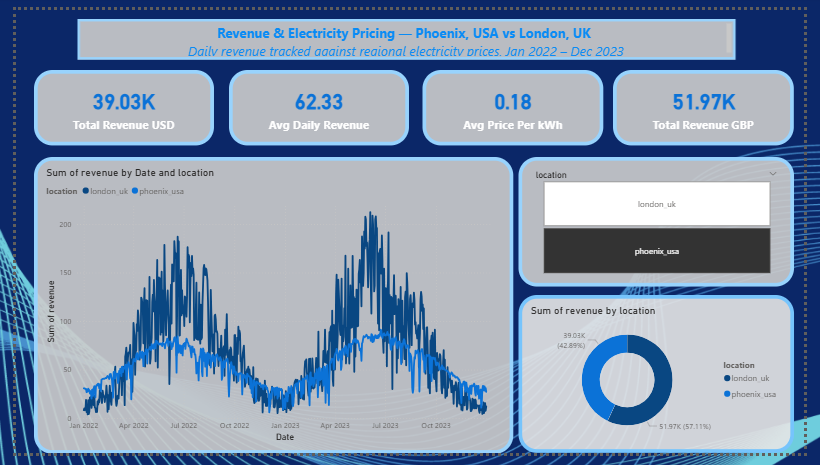

This screenshot's page, from the dashboard's own definition file:
{"tool":"powerbi","page":{"name":"Revenue & Market Price","canvas":[1280,720],"ordinal":1},"visuals":[{"type":"card","title":"Total Production","fields":{"Values":["production_clean.Avg Daily Revenue"]},"box":[346.8,97,292.7,122.5],"z":0},{"type":"card","title":"Total Production","fields":{"Values":["production_clean.Total Revenue USD"]},"box":[28.6,97,292.7,122.5],"z":1000},{"type":"card","title":"Total Production","fields":{"Values":["production_clean.Avg Price Per kWh"]},"box":[661.7,97,294.3,122.5],"z":2000},{"type":"card","title":"Total Production","fields":{"Values":["production_clean.Total Revenue GBP"]},"box":[970.3,97,294.3,122.5],"z":3000},{"type":"slicer","fields":{"Values":["forecast_output.location"]},"box":[817.2,237.9,448.3,210.3],"z":4000},{"type":"lineChart","fields":{"Series":["production_clean.location"],"Category":["DateTable.Date"],"Y":["Sum(production_clean.revenue)"]},"box":[29.3,237.9,779.3,482.8],"z":5000},{"type":"donutChart","fields":{"Category":["production_clean.location"],"Y":["Sum(production_clean.revenue)"]},"box":[817.2,463.8,448.3,256.9],"z":6000},{"type":"textbox","box":[100,14,1070,66],"z":6001}]}

Visuals, with their boxes in screenshot pixels (x1, y1, x2, y2), scaled from the page's 1280x720 canvas onto the 820x465 screenshot:
"Total Production" card: (left=222, top=63, right=410, bottom=142)
"Total Production" card: (left=18, top=63, right=206, bottom=142)
"Total Production" card: (left=424, top=63, right=612, bottom=142)
"Total Production" card: (left=622, top=63, right=810, bottom=142)
slicer - forecast_output.location: (left=524, top=154, right=811, bottom=289)
lineChart - production_clean.location x DateTable.Date: (left=19, top=154, right=518, bottom=464)
donutChart - production_clean.location x Sum(production_clean.revenue): (left=524, top=300, right=811, bottom=464)
textbox: (left=64, top=9, right=750, bottom=52)
